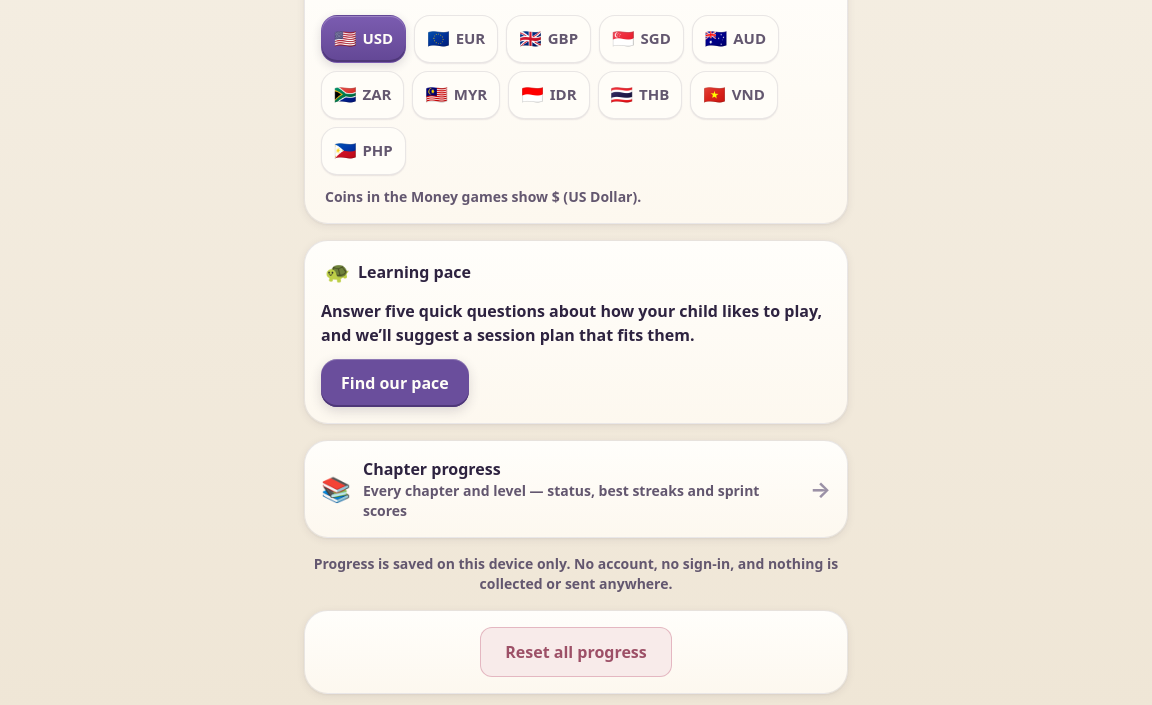
Scenario: ParentView › placed levels show as “Placed”, not “Mastered”, and don’t inflate the mastered stat
(page scrolled)
Step 1. Click the button with aria-label "Chapter progress" → (576, 488), box [304,440,848,538]
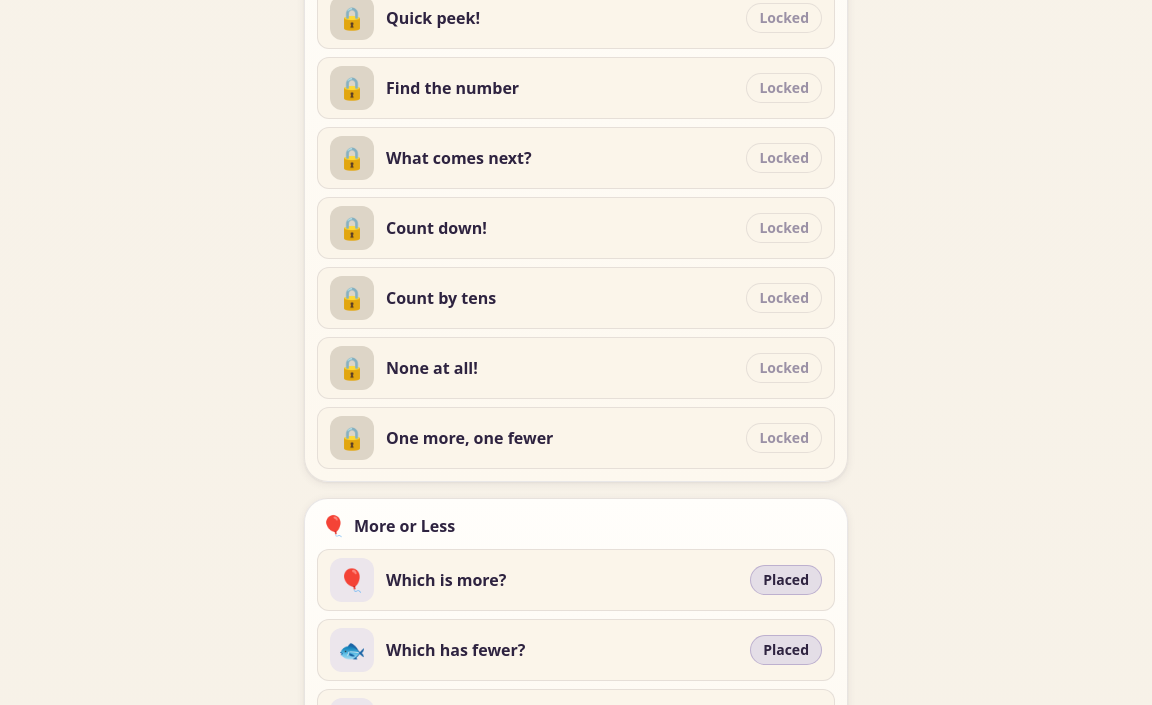
expect the text "Placed" is shown: met, box [750,564,822,594]
